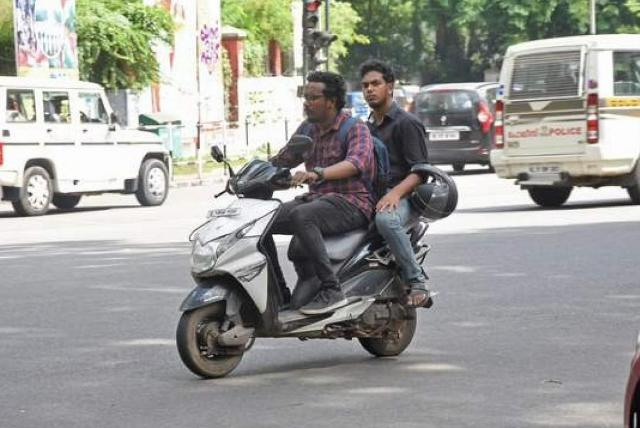licensePlate: (204, 207, 242, 217)
motorcycle: (177, 58, 459, 379)
withoutHelmet: (301, 69, 346, 117), (361, 61, 396, 106)
